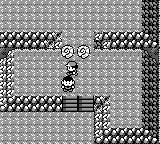leer: (77, 46, 90, 59), (61, 46, 74, 58)
main: (65, 61, 78, 76)
no-caminable: (94, 51, 159, 143), (0, 50, 62, 112), (96, 0, 159, 48), (0, 32, 59, 49)
npc: (61, 77, 76, 92)
